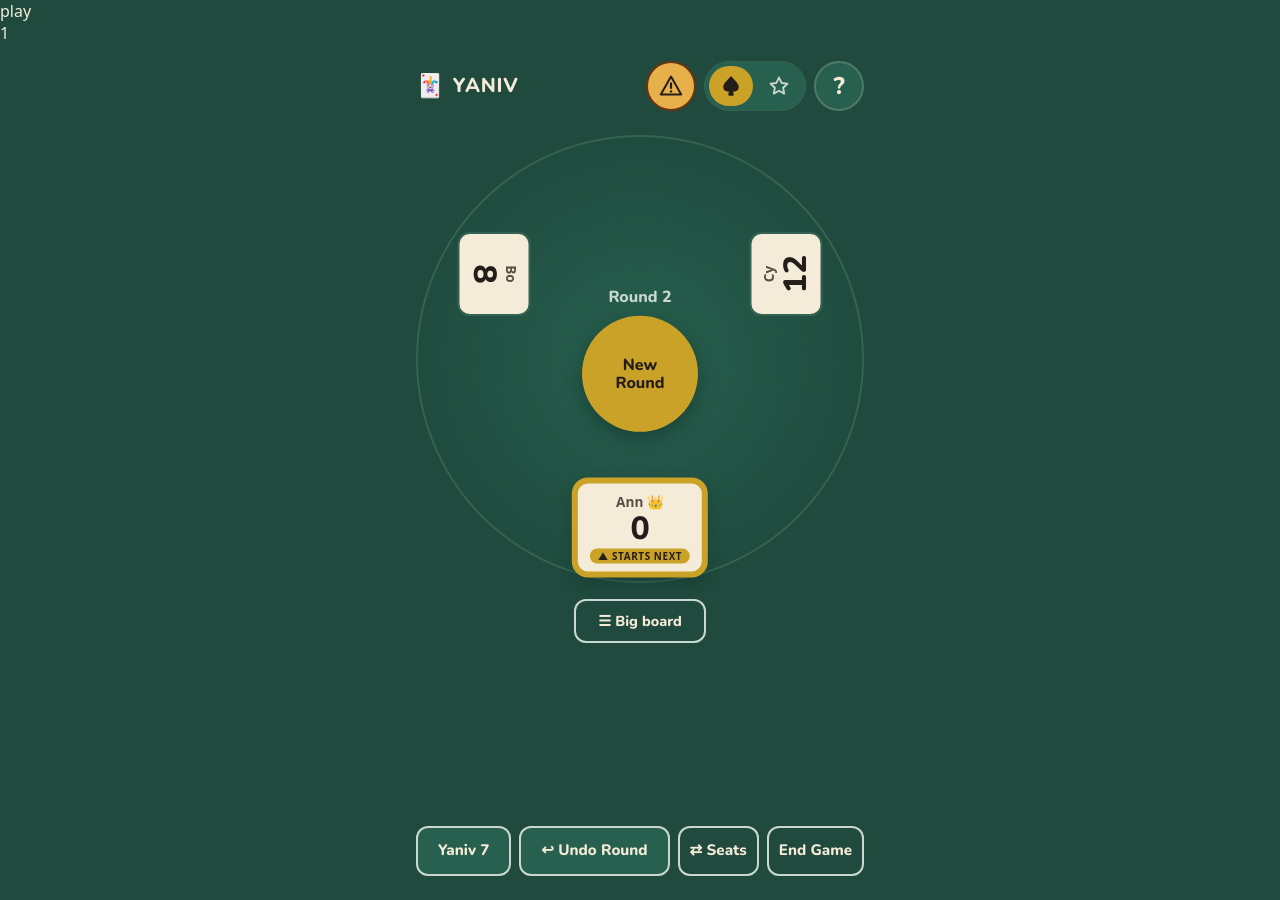
Scenario: End game — every "no" answer leaves the game running › a click on the backdrop leaves the game running
Click the button "End Game" at (815, 851), box x1=767 y1=826 x2=864 y2=876
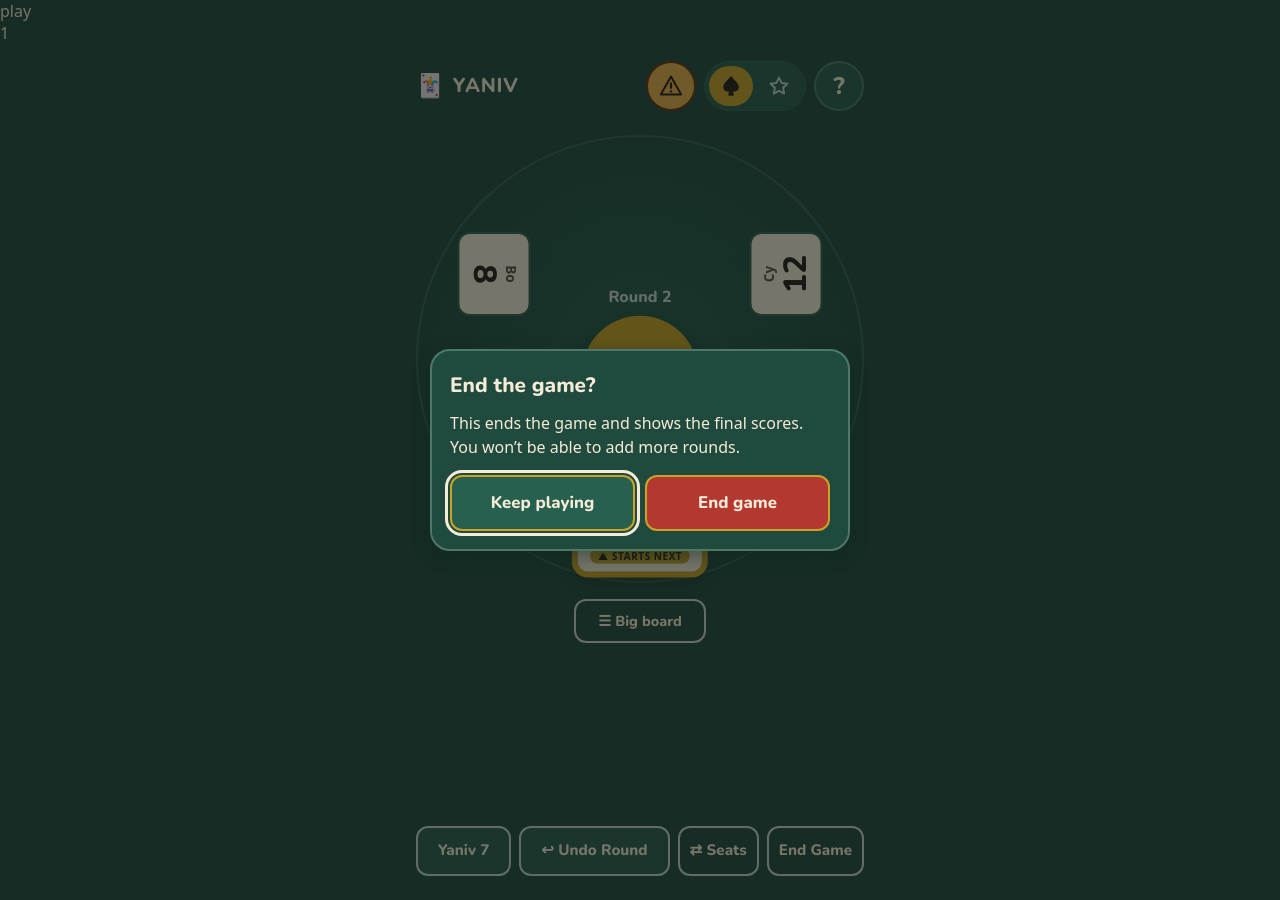
Press the mouse on the element with test id "confirm-end-game-backdrop" at (640, 450), box x1=0 y1=0 x2=1279 y2=899
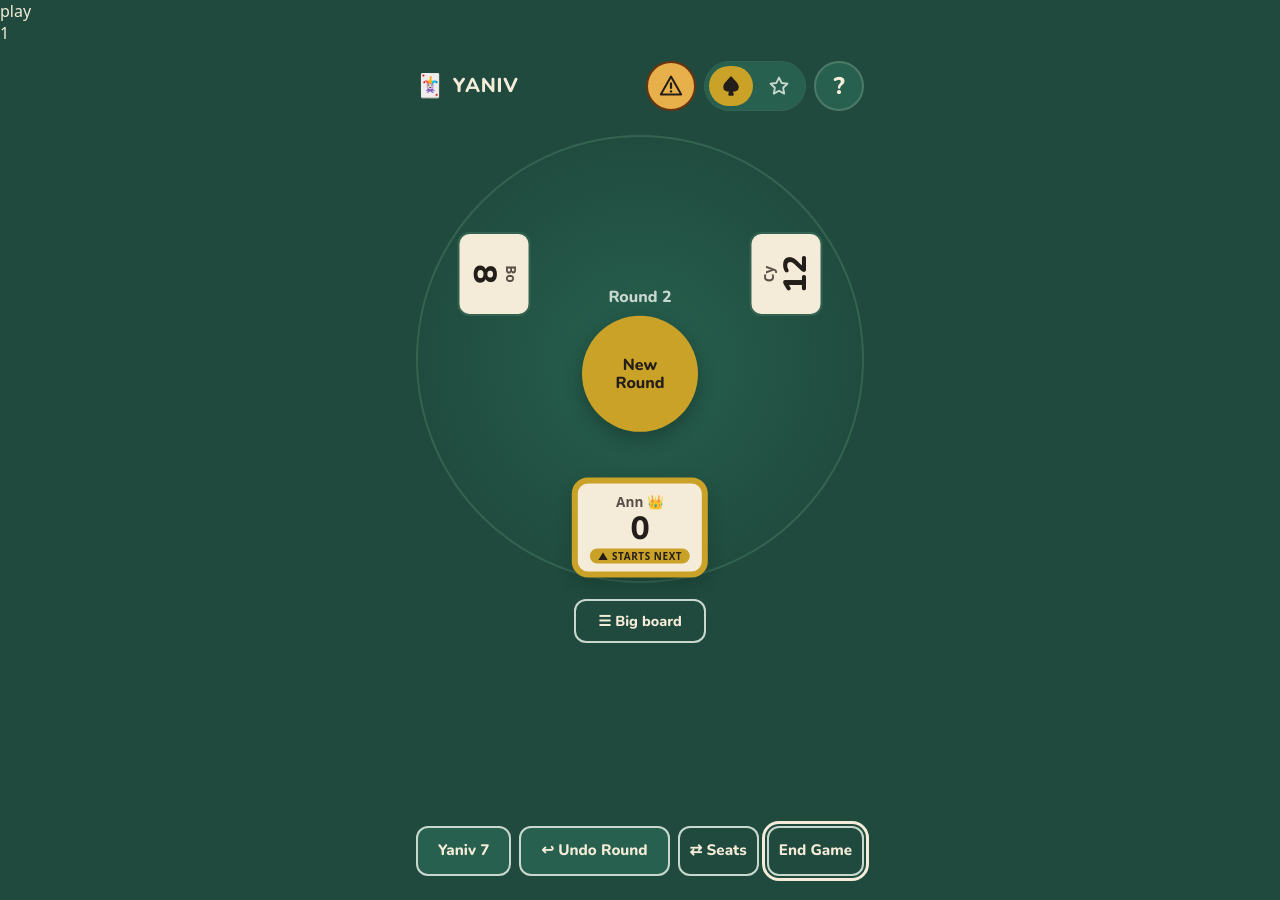
Expected: the text with test id "screen" reads "play", x1=0 y1=0 x2=31 y2=22
Expected: the dialog with test id "confirm-end-game" is gone
